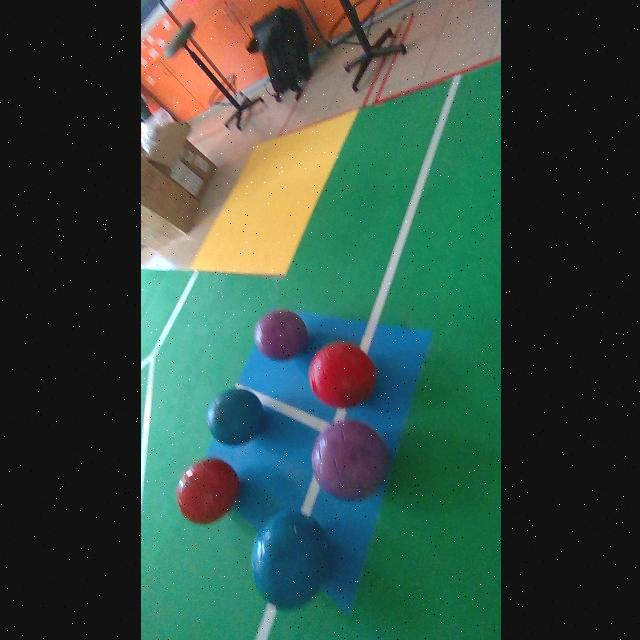B: (251, 513, 327, 608), (206, 389, 264, 445)
P: (311, 420, 388, 500), (253, 310, 307, 360)
R: (308, 342, 375, 407), (175, 458, 239, 524)
